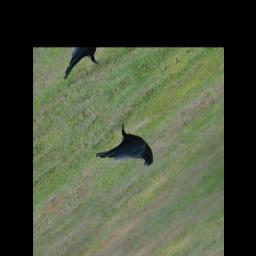Crow: (91, 113, 157, 197)
